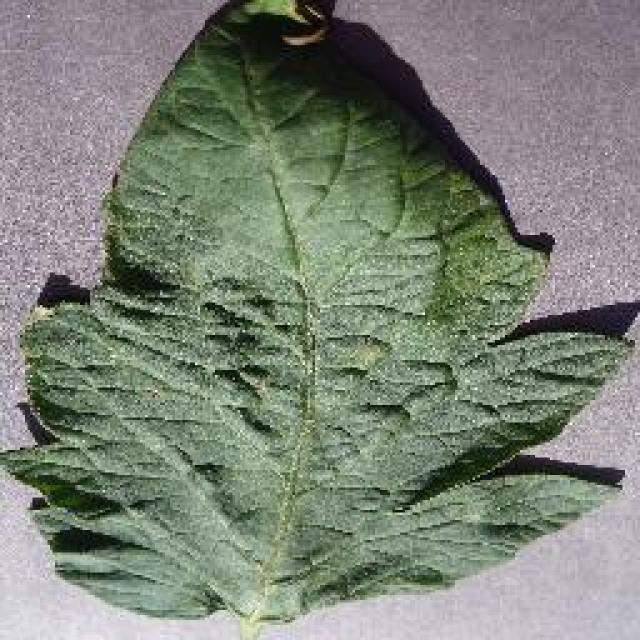Tom_Target_Spot: (199, 262, 409, 430), (121, 369, 174, 420), (24, 292, 71, 346)
